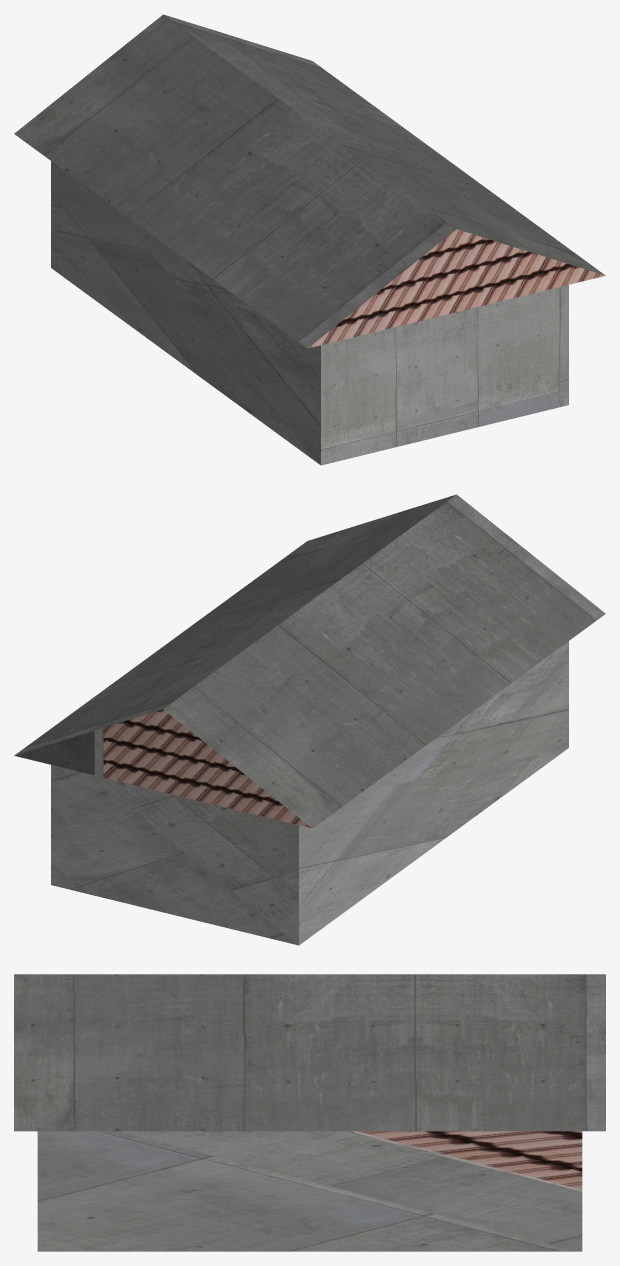
The model's file is barrack.obj.
3 renders of one model, top to bottom at view 1: azimuth 30°, elevation 25°; view 2: azimuth 150°, elevation 25°; view 3: azimuth 270°, elevation 25°, orthographic.
Parts seen in each view (by area): view 1: Cube_Cube.005; view 2: Cube_Cube.005; view 3: Cube_Cube.005.
Part boxes in pixels (left/top/right/bottom): Cube_Cube.005: left=14, top=14, right=605, bottom=465; Cube_Cube.005: left=14, top=494, right=605, bottom=945; Cube_Cube.005: left=14, top=974, right=605, bottom=1251.
Size of the model in its own units: 10.32 by 7.09 by 17.57.
